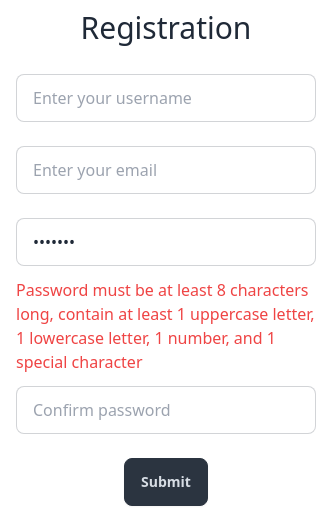
Scenario: Check if the input value satisfies the registration validation schema › checks if confirm password value is invalid
Type "Test123*" into the 1st password field at (166, 242), box [16, 218, 316, 266]
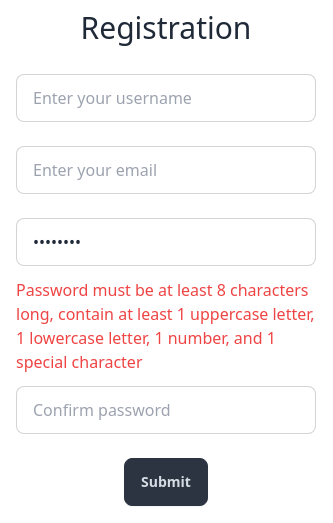
Type "Test123" into the password field with id "confirm-password" at (166, 410), box [16, 386, 316, 434]
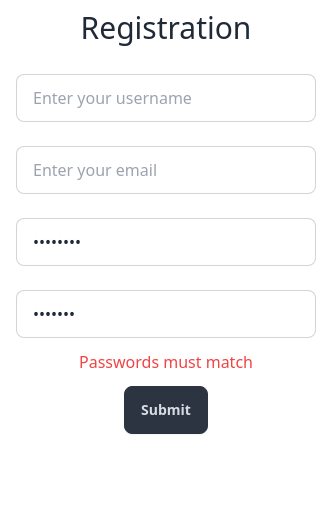
Expected: the text with id "confirm-password-validation-error" reads "Passwords must match", [79, 351, 253, 373]
